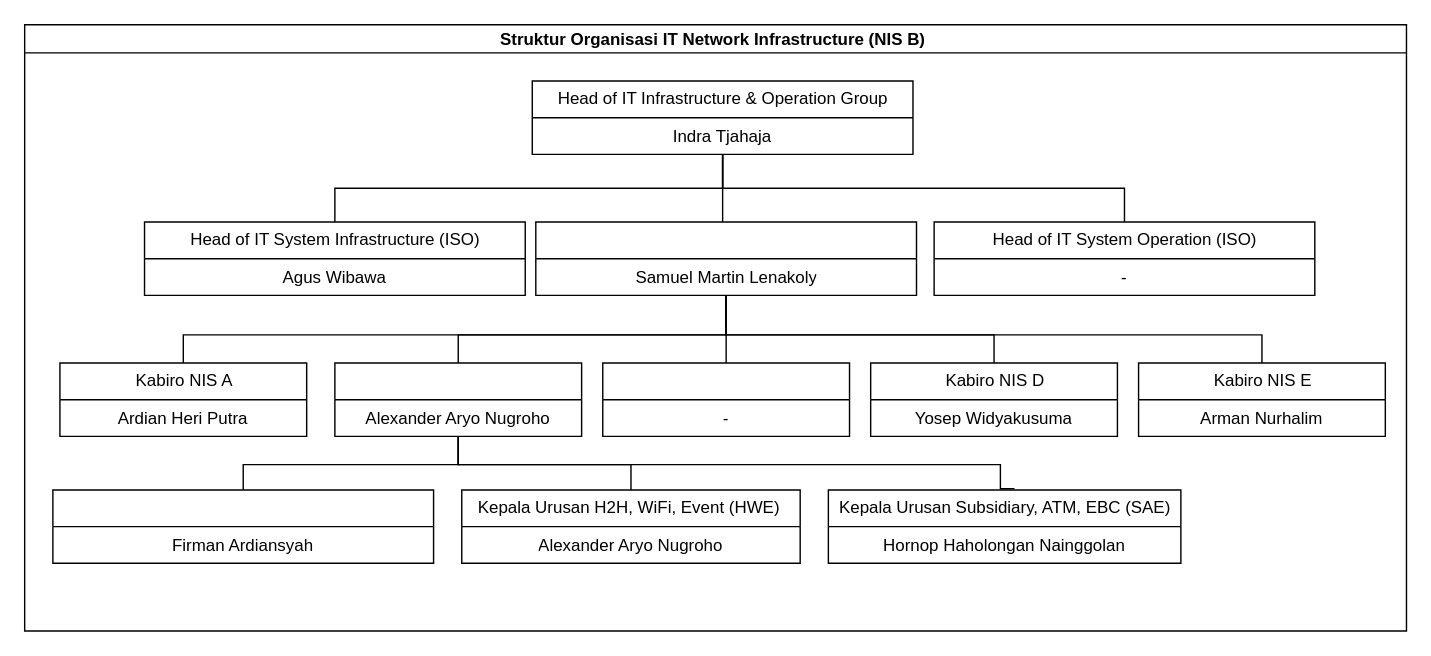
Image size: 1431x656. Some labels were removed from this diagram. The shapes that lost their labels are listed below. From the top down, each one's box as (x1, y1, x2, y2) in pixels, then its label:
(534, 221, 916, 295): Head of IT Network Infrastructure (NIS)
(333, 362, 582, 436): Kabiro NIS B
(601, 362, 850, 436): Kabiro NIS C
(51, 489, 434, 563): Kepala Urusan Branch & Hub Operations (BHO)
